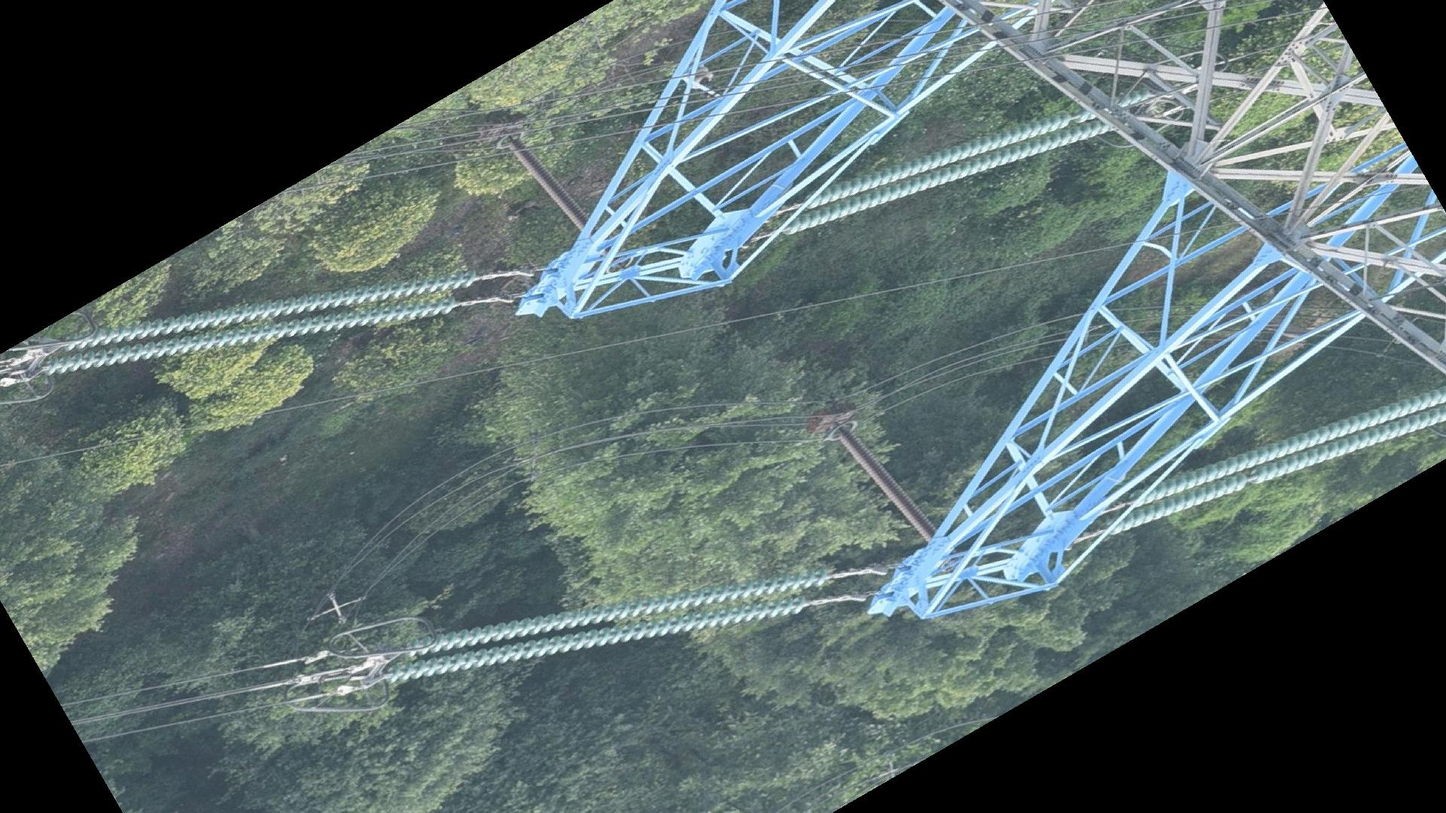insulator: (385, 565, 831, 687), (1102, 384, 1446, 539), (42, 266, 480, 379), (778, 108, 1109, 239), (835, 428, 939, 543), (508, 140, 588, 228)
insulator_stringdrop: (1233, 464, 1268, 495), (1056, 105, 1088, 130)
